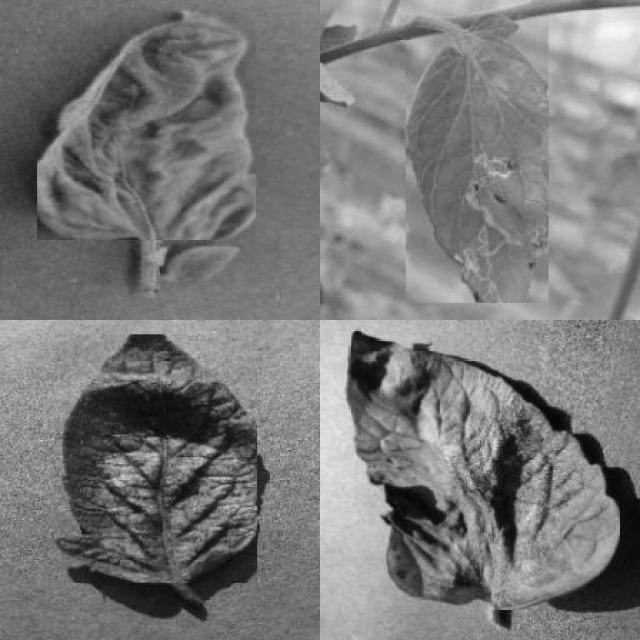Late Blight: (346, 327, 621, 610)
Leaf Miner: (406, 14, 548, 302)
Spider Mites: (55, 334, 258, 583)
Yellow Leaf Curl Virus: (37, 10, 256, 240), (167, 245, 243, 285)
